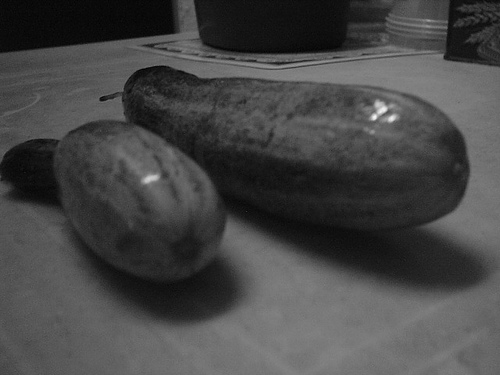cucumber: (98, 64, 472, 237), (50, 114, 231, 288)
